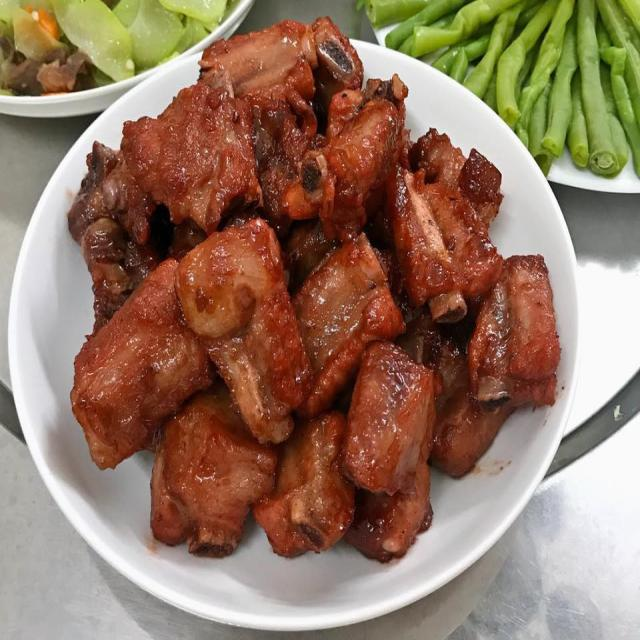suon xao: (68, 18, 559, 557)
